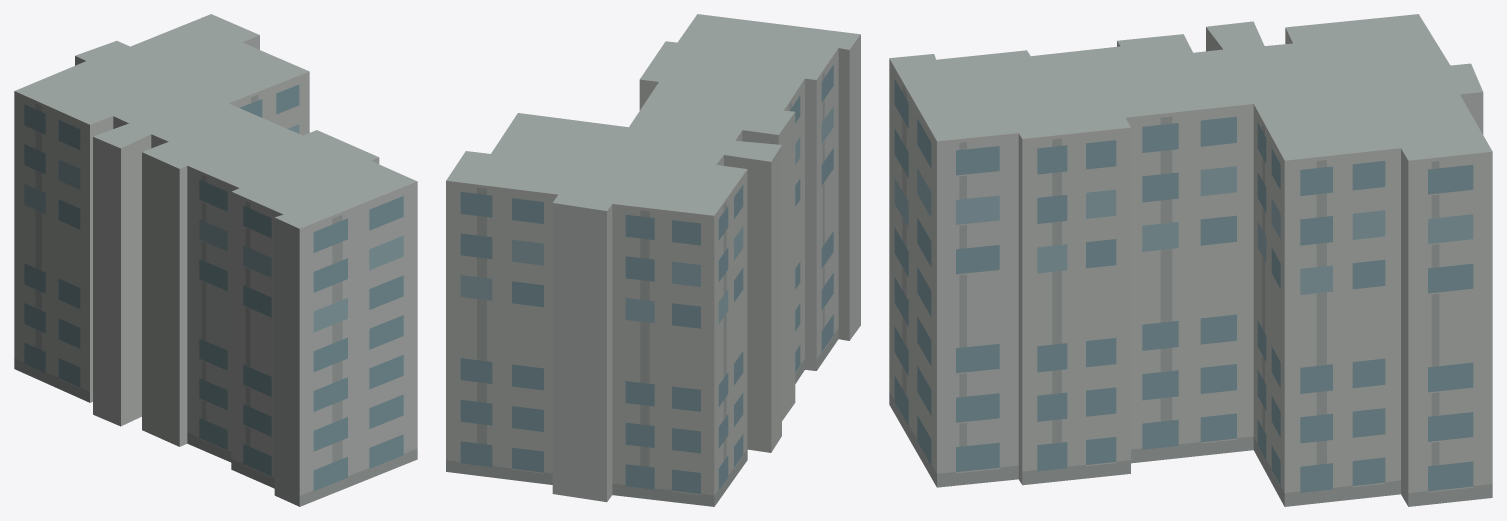
File: survey-upis-32828000.glb
3 views of the same model, side by side, from view 1: azimuth 30°, elevation 25°; view 2: azimuth 150°, elevation 25°; view 3: azimuth 270°, elevation 25° (orthographic). The views are drawn at different scales.
Parts seen in each view (by area): view 1: survey-upis-32828000.tmp; view 2: survey-upis-32828000.tmp; view 3: survey-upis-32828000.tmp.
Part boxes in pixels (bbox=[...]): survey-upis-32828000.tmp: bbox=[14, 14, 417, 506]; survey-upis-32828000.tmp: bbox=[446, 14, 860, 506]; survey-upis-32828000.tmp: bbox=[889, 14, 1492, 506].
Bounding box in the file's own units: 20.91 × 23 × 36.35.
